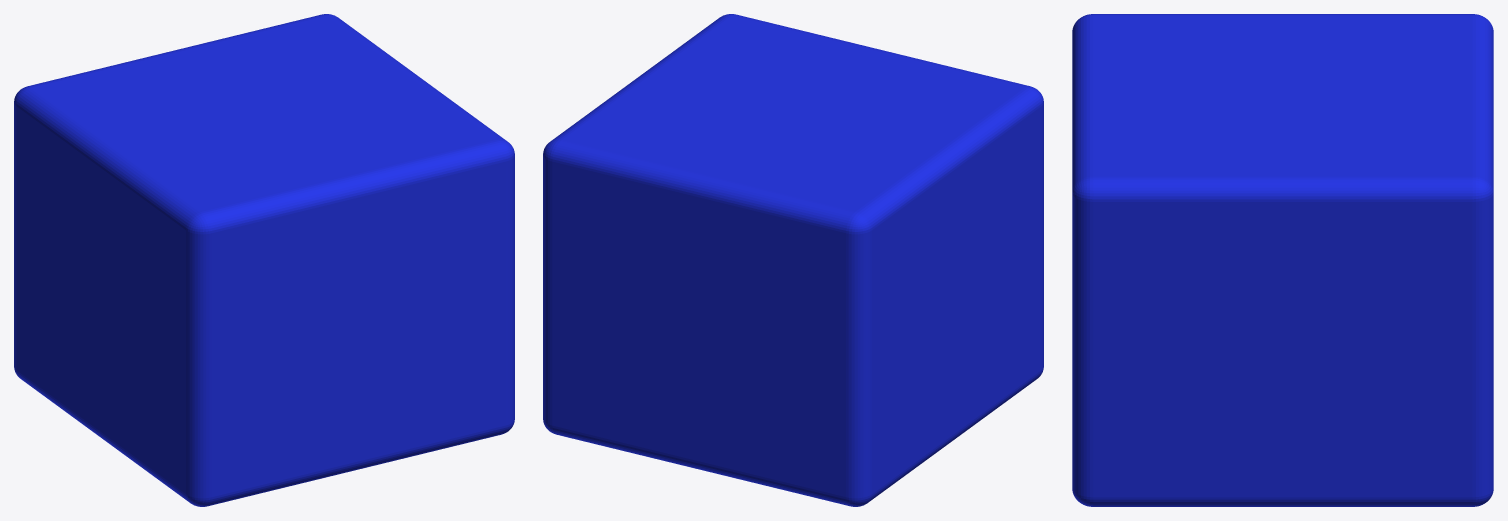
Rendered from case.gltf.
3 views of the same model, side by side, from view 1: azimuth 30°, elevation 25°; view 2: azimuth 150°, elevation 25°; view 3: azimuth 270°, elevation 25° (orthographic). The views are drawn at different scales.
Visible parts, largest first — view 1: Cube; view 2: Cube; view 3: Cube.
Part boxes in pixels (x1,y1,x2,y2): Cube: (14, 14, 514, 506); Cube: (543, 14, 1043, 506); Cube: (1072, 14, 1493, 506).
Bounding box in the file's own units: 2 × 1.72 × 2.
